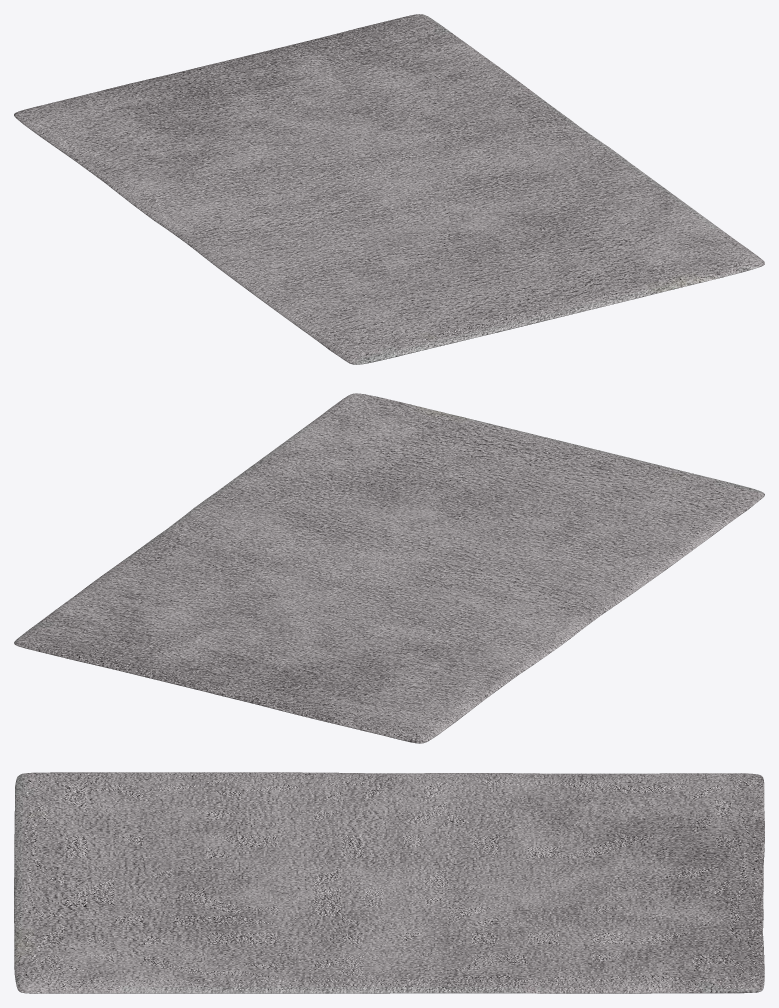
File: aerende_rug_high_pile_gray.glb
The picture shows the model from 3 angles, top to bottom: view 1: azimuth 30°, elevation 25°; view 2: azimuth 150°, elevation 25°; view 3: azimuth 270°, elevation 25°; orthographic projection. The views are drawn at different scales.
Visible parts, largest first — view 1: Rectangle002; view 2: Rectangle002; view 3: Rectangle002.
Part boxes in pixels (x1,y1,x2,y2): Rectangle002: [14, 14, 764, 364]; Rectangle002: [14, 393, 764, 743]; Rectangle002: [14, 772, 764, 993].
Bounding box in the file's own units: 1.6 × 0.0124 × 2.3.
3 materials, 3 textured.
